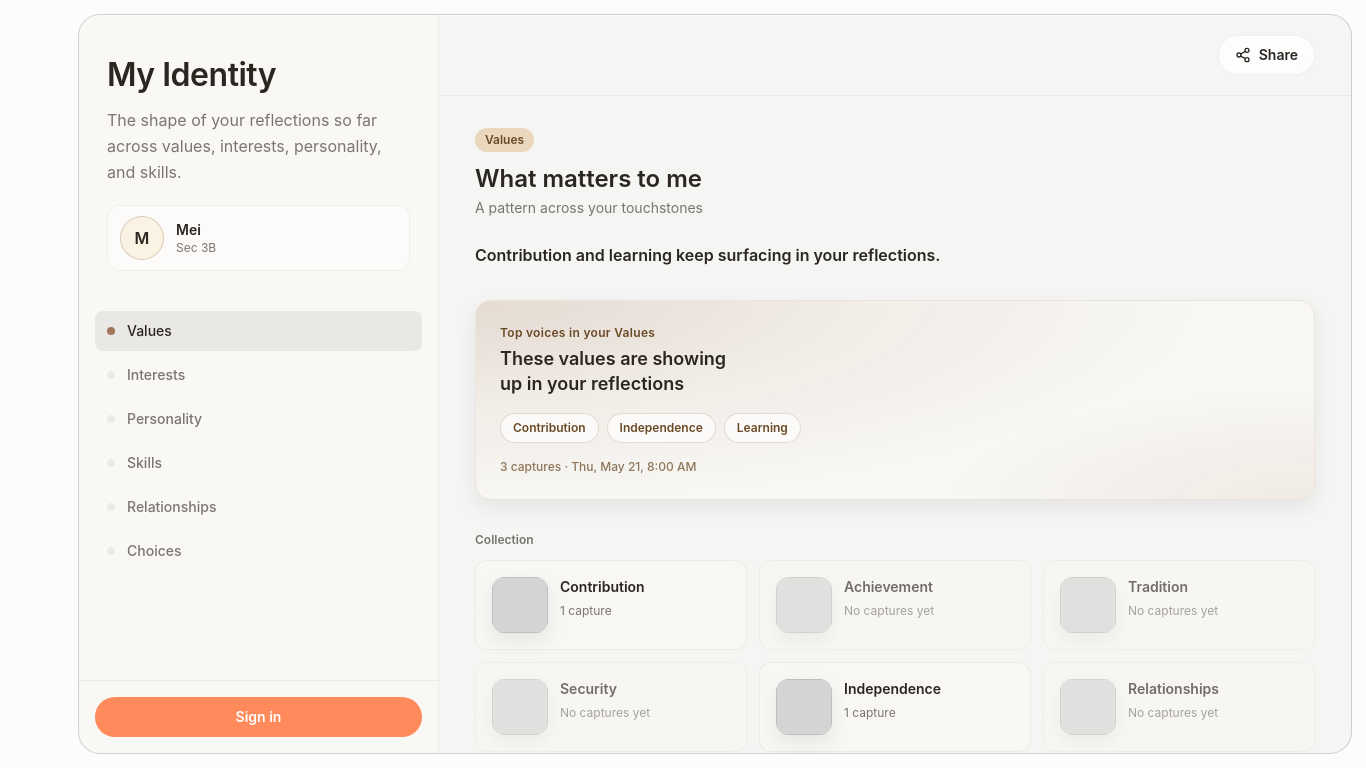
Test: ProfileSheet (React) › opens the React Share dialog and creates a token
The width and height of the screenshot is (1366, 768).
Click the button with test id "profile-share-button". click: (1266, 55)
box: left=1218, top=35, right=1315, bottom=75
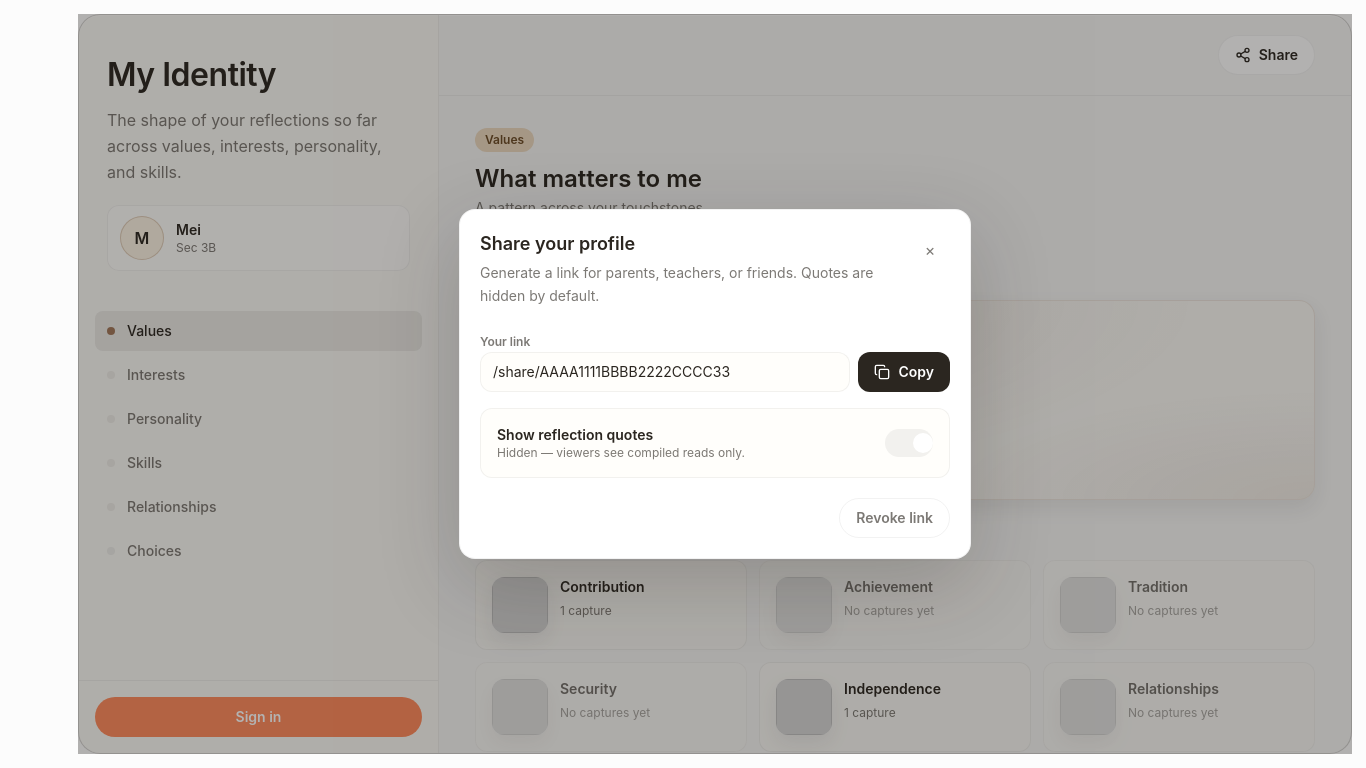
Check: the dialog with test id "share-dialog" is shown
Check: the field showing "/share/AAAA1111BBBB2222CCCC33" is shown, box left=480, top=352, right=850, bottom=392
